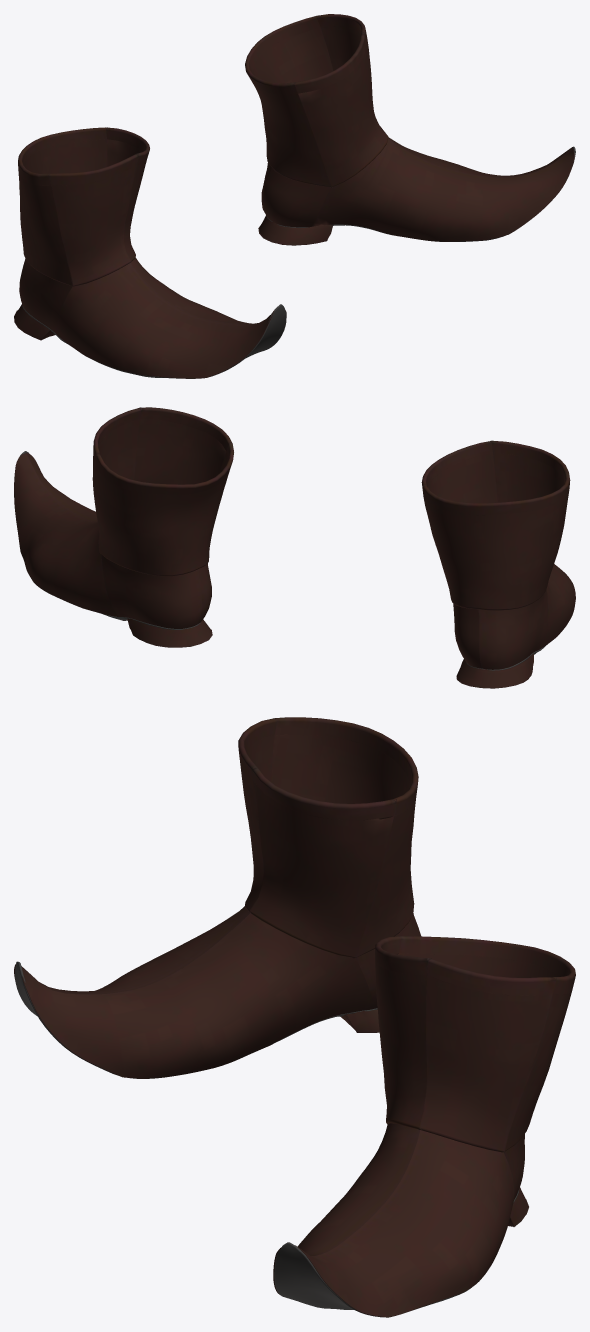
Rendered from COSSACK_BOOTS_1#40.glb.
3 views of the same model, one above another, from view 1: azimuth 30°, elevation 25°; view 2: azimuth 150°, elevation 25°; view 3: azimuth 270°, elevation 25° (orthographic). The views are drawn at different scales.
Parts seen in each view (by area): view 1: shoes_4_lev_kazak; view 2: shoes_4_lev_kazak; view 3: shoes_4_lev_kazak.
Boxes of the visible parts, x1,y1,x2,y2 form: shoes_4_lev_kazak: [14, 14, 575, 378]; shoes_4_lev_kazak: [14, 407, 575, 688]; shoes_4_lev_kazak: [14, 717, 575, 1317].
Bounding box in the file's own units: 5.12 × 1.79 × 3.19.
1 material, 1 textured.
